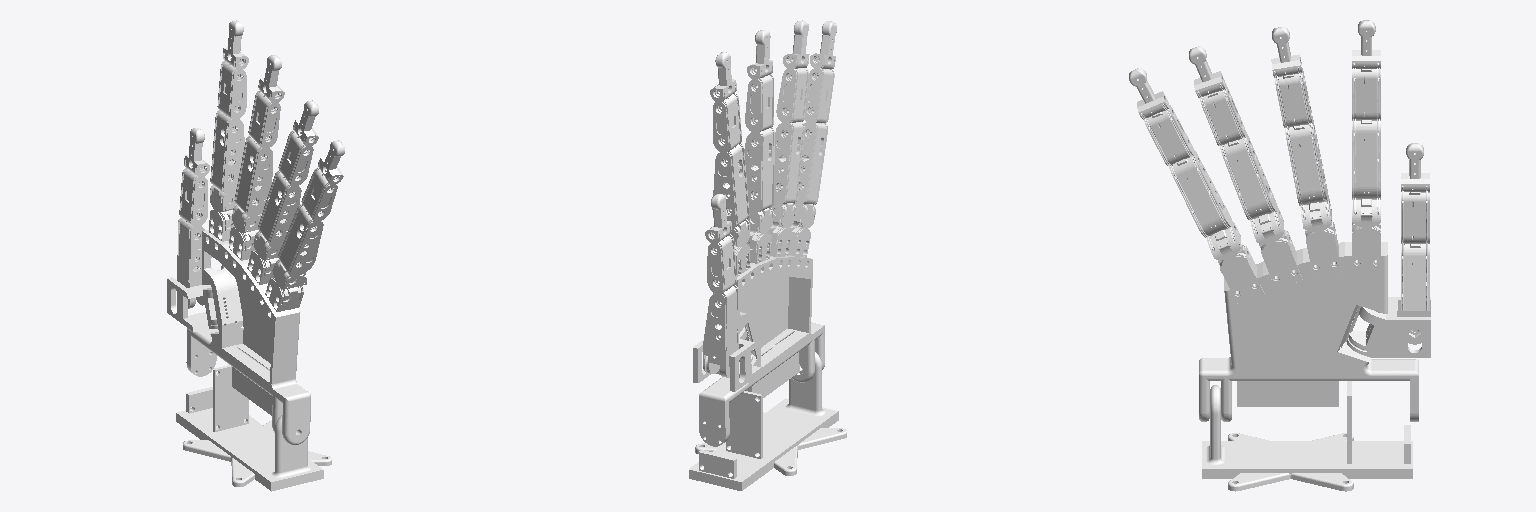
--- Facts derived from the render (not from the file) ---
The picture shows the robot from 3 angles, left to right: view 1: azimuth 30°, elevation 25°; view 2: azimuth 150°, elevation 25°; view 3: azimuth 270°, elevation 25°; orthographic projection.
Model converted_robot with 53 links and 52 joints (21 revolute, 31 fixed), rooted at world, posed all joints at 0.
Links seen in each view (by area): view 1: hand, base, f_proximal_2, f_proximal_1, f_proximal_4, f_proximal_3, thumb, f_proximal_thumb, f_medial_1, f_medial_thumb, f_medial_2, f_medial_3 (+11 smaller); view 2: hand, base, f_proximal_thumb, f_proximal_2, f_proximal_3, f_proximal_1, f_proximal_4, thumb, f_medial_3, f_medial_2, f_medial_thumb, f_medial_1 (+9 smaller); view 3: hand, base, thumb, f_proximal_4, f_proximal_3, f_proximal_2, f_proximal_thumb, f_proximal_1, f_medial_4, f_medial_3, f_medial_2, finger_4 (+14 smaller).
Boxes of the visible links, box(x1,y1,x2,y2) form: hand: box(186, 230, 310, 444); base: box(176, 365, 331, 491); f_proximal_2: box(234, 135, 272, 216); f_proximal_1: box(210, 110, 244, 193); f_proximal_4: box(278, 204, 323, 276); f_proximal_3: box(258, 170, 301, 246); thumb: box(167, 277, 217, 331); f_proximal_thumb: box(177, 217, 210, 308); f_medial_1: box(217, 60, 246, 119); f_medial_thumb: box(179, 168, 207, 226); f_medial_2: box(248, 90, 280, 148); f_medial_3: box(278, 130, 313, 186); hand: box(699, 255, 824, 446); base: box(689, 352, 846, 490); f_proximal_thumb: box(703, 285, 738, 377); f_proximal_2: box(744, 127, 774, 212); f_proximal_3: box(774, 122, 804, 204); f_proximal_1: box(712, 143, 749, 228); f_proximal_4: box(795, 121, 827, 204); thumb: box(693, 327, 762, 391); f_medial_3: box(776, 68, 808, 122); f_medial_2: box(745, 74, 773, 132); f_medial_thumb: box(707, 234, 736, 294); f_medial_1: box(713, 93, 741, 152); hand: box(1199, 242, 1418, 421); base: box(1202, 381, 1412, 491); thumb: box(1347, 297, 1430, 357); f_proximal_4: box(1169, 150, 1232, 237); f_proximal_3: box(1220, 132, 1276, 219); f_proximal_2: box(1285, 120, 1328, 205); f_proximal_thumb: box(1401, 243, 1429, 344); f_proximal_1: box(1352, 119, 1380, 199); f_medial_4: box(1144, 105, 1194, 165); f_medial_3: box(1199, 85, 1246, 145); f_medial_2: box(1274, 71, 1312, 127); finger_4: box(1218, 244, 1263, 303).
Size in the robot's own frame: 0.0565 by 0.1354 by 0.2232 metres.
Meshes: 26 distinct files referenced, 26 mesh visuals loaded (26 binary STL).

The robot description file, URDF, robot "converted_robot":
<?xml version="1.0" ?>
<robot name="converted_robot">
   <link name="world">
      <inertial>
         <origin xyz="0.0 0.0 0.0" rpy="0.0 0.0 0.0"/>
         <mass value="0.0"/>
         <inertia ixx="0.0" iyy="0.0" izz="0.0" ixy="0" ixz="0" iyz="0"/>
      </inertial>
   </link>
   <link name="base">
      <inertial>
         <origin xyz="-4.8799707564326224e-09 0.005582185568398456 0.010226744006253653" rpy="1.5349507138249 0.0 0.0"/>
         <mass value="0.05900793869016234"/>
         <inertia ixx="4.388975198952572e-05" iyy="4.3634628030527895e-05" izz="8.300150544028685e-06" ixy="0" ixz="0" iyz="0"/>
      </inertial>
      <visual name="connector">
         <origin xyz="-4.8799707564326224e-09 0.005582185568398456 0.010226744006253653" rpy="1.5349507138249 0.0 0.0"/>
         <geometry>
            <mesh filename="converted_connector.stl"/>
         </geometry>
         <material name="white"/>
      </visual>
   </link>
   <link name="world2base_fixed_jointbody">
      <inertial>
         <origin xyz="0.0 0.0 0.0" rpy="0.0 0.0 0.0"/>
         <mass value="0.001"/>
         <inertia ixx="1e-09" iyy="1e-09" izz="1e-09" ixy="0" ixz="0" iyz="0"/>
      </inertial>
   </link>
   <joint type="fixed" name="world2base_fixed">
      <parent link="world"/>
      <child link="world2base_fixed_jointbody"/>
      <origin xyz="0.0 0.0 0.0" rpy="0.0 0.0 0.0"/>
   </joint>
   <joint type="fixed" name="world2base_fixed_offset">
      <parent link="world2base_fixed_jointbody"/>
      <child link="base"/>
      <origin xyz="-0.0 -0.0 -0.0" rpy="0.0 0.0 0.0"/>
   </joint>
   <link name="hand">
      <inertial>
         <origin xyz="0.000562061327561651 0.00577931980475707 0.0636736226729795" rpy="2.019846101849213 0.0028366571213855885 -0.0012574293312483942"/>
         <mass value="0.12364236097799929"/>
         <inertia ixx="0.00012885090869033678" iyy="8.11084683924915e-05" izz="5.074465474696565e-05" ixy="0" ixz="0" iyz="0"/>
      </inertial>
      <visual name="palm">
         <origin xyz="0.000562061327561651 0.00577931980475707 0.0636736226729795" rpy="2.019846101849213 0.0028366571213855885 -0.0012574293312483942"/>
         <geometry>
            <mesh filename="converted_palm.stl"/>
         </geometry>
         <material name="white"/>
      </visual>
   </link>
   <link name="revolute_base_hand_jointbody">
      <inertial>
         <origin xyz="0.0 0.0 0.0" rpy="0.0 0.0 0.0"/>
         <mass value="0.001"/>
         <inertia ixx="1e-09" iyy="1e-09" izz="1e-09" ixy="0" ixz="0" iyz="0"/>
      </inertial>
   </link>
   <joint type="revolute" name="revolute_base_hand">
      <parent link="base"/>
      <child link="revolute_base_hand_jointbody"/>
      <origin xyz="0.0 0.0 0.0295" rpy="0.0 0.0 0.0"/>
      <axis xyz="0.0 1.0 0.0"/>
      <limit lower="-1.5707" upper="1.5707" effort="100" velocity="100"/>
   </joint>
   <joint type="fixed" name="revolute_base_hand_offset">
      <parent link="revolute_base_hand_jointbody"/>
      <child link="hand"/>
      <origin xyz="-0.0 -0.0 -0.0295" rpy="0.0 0.0 0.0"/>
   </joint>
   <link name="thumb">
      <inertial>
         <origin xyz="-0.0024321580902199147 0.04547055201202439 0.06594428052585251" rpy="-1.818372072007934 -1.3851142024770866 -2.432251693514906"/>
         <mass value="0.011932463361551614"/>
         <inertia ixx="1.3316220598414493e-06" iyy="1.1875874826751407e-06" izz="8.101648035813821e-07" ixy="0" ixz="0" iyz="0"/>
      </inertial>
      <visual name="thumbHinge">
         <origin xyz="-0.0024321580902199147 0.04547055201202439 0.06594428052585251" rpy="-1.818372072007933 -1.3851142024770866 -2.4322516935149068"/>
         <geometry>
            <mesh filename="converted_thumbHinge.stl"/>
         </geometry>
         <material name="white"/>
      </visual>
   </link>
   <link name="revolute_thumb_jointbody">
      <inertial>
         <origin xyz="0.0 0.0 0.0" rpy="0.0 0.0 0.0"/>
         <mass value="0.001"/>
         <inertia ixx="1e-09" iyy="1e-09" izz="1e-09" ixy="0" ixz="0" iyz="0"/>
      </inertial>
   </link>
   <joint type="revolute" name="revolute_thumb">
      <parent link="hand"/>
      <child link="revolute_thumb_jointbody"/>
      <origin xyz="0.0 0.03375066 0.0623" rpy="0.0 0.0 0.0"/>
      <axis xyz="0.0 0.34222508701641263 0.9396180020713785"/>
      <limit lower="-1.5707" upper="0.786" effort="100" velocity="100"/>
   </joint>
   <joint type="fixed" name="revolute_thumb_offset">
      <parent link="revolute_thumb_jointbody"/>
      <child link="thumb"/>
      <origin xyz="-0.0 -0.03375066 -0.0623" rpy="0.0 0.0 0.0"/>
   </joint>
   <link name="f_proximal_thumb">
      <inertial>
         <origin xyz="-0.004297951798048206 0.05580866566310336 0.0843086892036457" rpy="-0.0011210076065933552 -0.06049491111901317 0.00030069089551451074"/>
         <mass value="0.008513045671991154"/>
         <inertia ixx="1.306750938104563e-06" iyy="1.2910804936716028e-06" izz="1.9549737860115378e-07" ixy="0" ixz="0" iyz="0"/>
      </inertial>
      <visual name="f_proximal_thumb">
         <origin xyz="-0.004297951798048206 0.05580866566310336 0.0843086892036457" rpy="-0.0011210076065933552 -0.060494911119013395 0.0003006908955145107"/>
         <geometry>
            <mesh filename="converted_f_proximal_thumb.stl"/>
         </geometry>
         <material name="white"/>
      </visual>
   </link>
   <link name="revolute_proximal_thumb_jointbody">
      <inertial>
         <origin xyz="0.0 0.0 0.0" rpy="0.0 0.0 0.0"/>
         <mass value="0.001"/>
         <inertia ixx="1e-09" iyy="1e-09" izz="1e-09" ixy="0" ixz="0" iyz="0"/>
      </inertial>
   </link>
   <joint type="revolute" name="revolute_proximal_thumb">
      <parent link="thumb"/>
      <child link="revolute_proximal_thumb_jointbody"/>
      <origin xyz="0.0 0.05580889 0.0673319" rpy="0.0 0.0 0.0"/>
      <axis xyz="1.0 0.0 0.0"/>
      <limit lower="-3.141592" upper="0.0" effort="100" velocity="100"/>
   </joint>
   <joint type="fixed" name="revolute_proximal_thumb_offset">
      <parent link="revolute_proximal_thumb_jointbody"/>
      <child link="f_proximal_thumb"/>
      <origin xyz="-0.0 -0.05580889 -0.0673319" rpy="0.0 0.0 0.0"/>
   </joint>
   <link name="f_medial_thumb">
      <inertial>
         <origin xyz="-0.004174282327362963 0.05580154098117887 0.12063842172314324" rpy="0.00349794092532671 0.05280161793271221 0.0015134589420470353"/>
         <mass value="0.00362575779796271"/>
         <inertia ixx="2.3818492454688547e-07" iyy="2.0716156344351367e-07" izz="6.832850505523552e-08" ixy="0" ixz="0" iyz="0"/>
      </inertial>
      <visual name="f_medial_thumb">
         <origin xyz="-0.004174282327362963 0.05580154098117887 0.12063842172314324" rpy="0.00349794092532671 0.05280161793271221 0.0015134589420470353"/>
         <geometry>
            <mesh filename="converted_f_medial_thumb.stl"/>
         </geometry>
         <material name="white"/>
      </visual>
   </link>
   <link name="revolute_medial_thumb_jointbody">
      <inertial>
         <origin xyz="0.0 0.0 0.0" rpy="0.0 0.0 0.0"/>
         <mass value="0.001"/>
         <inertia ixx="1e-09" iyy="1e-09" izz="1e-09" ixy="0" ixz="0" iyz="0"/>
      </inertial>
   </link>
   <joint type="revolute" name="revolute_medial_thumb">
      <parent link="f_proximal_thumb"/>
      <child link="revolute_medial_thumb_jointbody"/>
      <origin xyz="-0.00682572 0.06231091 0.10204161" rpy="0.0 0.0 0.0"/>
      <axis xyz="0.0 1.0 0.0"/>
      <limit lower="0.0" upper="1.5707" effort="100" velocity="100"/>
   </joint>
   <joint type="fixed" name="revolute_medial_thumb_offset">
      <parent link="revolute_medial_thumb_jointbody"/>
      <child link="f_medial_thumb"/>
      <origin xyz="0.00682572 -0.06231091 -0.10204161" rpy="0.0 0.0 0.0"/>
   </joint>
   <link name="f_distal_thumb">
      <inertial>
         <origin xyz="-0.002743183463667816 0.05578990650003305 0.1426735470904285" rpy="-0.0005608075343264459 0.010813348257990185 -0.00457552909443207"/>
         <mass value="0.0014065187417840303"/>
         <inertia ixx="7.157650622938779e-08" iyy="6.265685629206977e-08" izz="1.689165819994808e-08" ixy="0" ixz="0" iyz="0"/>
      </inertial>
      <visual name="f_distal_thumb">
         <origin xyz="-0.002743183463667816 0.05578990650003305 0.1426735470904285" rpy="-0.0005608075343264459 0.010813348257990407 -0.00457552909443207"/>
         <geometry>
            <mesh filename="converted_f_distal_thumb.stl"/>
         </geometry>
         <material name="white"/>
      </visual>
   </link>
   <link name="revolute_distal_thumb_jointbody">
      <inertial>
         <origin xyz="0.0 0.0 0.0" rpy="0.0 0.0 0.0"/>
         <mass value="0.001"/>
         <inertia ixx="1e-09" iyy="1e-09" izz="1e-09" ixy="0" ixz="0" iyz="0"/>
      </inertial>
   </link>
   <joint type="revolute" name="revolute_distal_thumb">
      <parent link="f_medial_thumb"/>
      <child link="revolute_distal_thumb_jointbody"/>
      <origin xyz="-0.00444824 0.06230108 0.13012679" rpy="0.0 0.0 0.0"/>
      <axis xyz="0.0 1.0 0.0"/>
      <limit lower="0.0" upper="1.5707" effort="100" velocity="100"/>
   </joint>
   <joint type="fixed" name="revolute_distal_thumb_offset">
      <parent link="revolute_distal_thumb_jointbody"/>
      <child link="f_distal_thumb"/>
      <origin xyz="0.00444824 -0.06230108 -0.13012679" rpy="0.0 0.0 0.0"/>
   </joint>
   <link name="finger_1">
      <inertial>
         <origin xyz="0.0029687680810755604 0.03410714525654222 0.11178942929059522" rpy="0.00170760427217985 -0.270159979472987 -0.007818085328238942"/>
         <mass value="0.003620692851362423"/>
         <inertia ixx="1.6607591132839185e-07" iyy="1.5839640989381737e-07" izz="8.57536993653747e-08" ixy="0" ixz="0" iyz="0"/>
      </inertial>
      <visual name="f_base_1">
         <origin xyz="0.0029687680810755604 0.03410714525654222 0.11178942929059522" rpy="0.00170760427217985 -0.270159979472987 -0.007818085328238942"/>
         <geometry>
            <mesh filename="converted_f_base_1.stl"/>
         </geometry>
         <material name="white"/>
      </visual>
   </link>
   <link name="hand2finger_1_fixed_jointbody">
      <inertial>
         <origin xyz="0.0 0.0 0.0" rpy="0.0 0.0 0.0"/>
         <mass value="0.001"/>
         <inertia ixx="1e-09" iyy="1e-09" izz="1e-09" ixy="0" ixz="0" iyz="0"/>
      </inertial>
   </link>
   <joint type="fixed" name="hand2finger_1_fixed">
      <parent link="hand"/>
      <child link="hand2finger_1_fixed_jointbody"/>
      <origin xyz="0.0 0.0 0.0" rpy="0.0 0.0 0.0"/>
   </joint>
   <joint type="fixed" name="hand2finger_1_fixed_offset">
      <parent link="hand2finger_1_fixed_jointbody"/>
      <child link="finger_1"/>
      <origin xyz="-0.0 -0.0 -0.0" rpy="0.0 0.0 0.0"/>
   </joint>
   <link name="f_joint_1">
      <inertial>
         <origin xyz="0.00208586770390702 0.034102497590881665 0.12737633203207016" rpy="3.1337612662740977 -1.1666236191142398 0.007404724188730283"/>
         <mass value="0.00205077724159981"/>
         <inertia ixx="5.3021042242846075e-08" iyy="4.456769422477217e-08" izz="4.1862233507098256e-08" ixy="0" ixz="0" iyz="0"/>
      </inertial>
      <visual name="f_joint_1">
         <origin xyz="0.00208586770390702 0.034102497590881665 0.12737633203207016" rpy="3.1337612662740977 -1.1666236191142398 0.007404724188730283"/>
         <geometry>
            <mesh filename="converted_f_joint_1.stl"/>
         </geometry>
         <material name="white"/>
      </visual>
   </link>
   <link name="revolute_joint_1_jointbody">
      <inertial>
         <origin xyz="0.0 0.0 0.0" rpy="0.0 0.0 0.0"/>
         <mass value="0.001"/>
         <inertia ixx="1e-09" iyy="1e-09" izz="1e-09" ixy="0" ixz="0" iyz="0"/>
      </inertial>
   </link>
   <joint type="revolute" name="revolute_joint_1">
      <parent link="finger_1"/>
      <child link="revolute_joint_1_jointbody"/>
      <origin xyz="0.00885185 0.03410852 0.11250719" rpy="0.0 0.0 0.0"/>
      <axis xyz="1.0 0.0 0.0"/>
      <limit lower="-0.393" upper="0.393" effort="100" velocity="100"/>
   </joint>
   <joint type="fixed" name="revolute_joint_1_offset">
      <parent link="revolute_joint_1_jointbody"/>
      <child link="f_joint_1"/>
      <origin xyz="-0.00885185 -0.03410852 -0.11250719" rpy="0.0 0.0 0.0"/>
   </joint>
   <link name="f_proximal_1">
      <inertial>
         <origin xyz="0.0031190579550748757 0.03408189919150284 0.15230004011161824" rpy="0.0020249258799340322 0.0320982378591812 -0.012550217898010786"/>
         <mass value="0.007546045792178881"/>
         <inertia ixx="9.563533404431607e-07" iyy="9.274115947109677e-07" izz="1.7176053838506628e-07" ixy="0" ixz="0" iyz="0"/>
      </inertial>
      <visual name="f_proximal_1">
         <origin xyz="0.0031190579550748757 0.03408189919150284 0.15230004011161824" rpy="0.0020249258799340322 0.0320982378591812 -0.012550217898010786"/>
         <geometry>
            <mesh filename="converted_f_proximal_1.stl"/>
         </geometry>
         <material name="white"/>
      </visual>
   </link>
   <link name="revolute_proximal_1_jointbody">
      <inertial>
         <origin xyz="0.0 0.0 0.0" rpy="0.0 0.0 0.0"/>
         <mass value="0.001"/>
         <inertia ixx="1e-09" iyy="1e-09" izz="1e-09" ixy="0" ixz="0" iyz="0"/>
      </inertial>
   </link>
   <joint type="revolute" name="revolute_proximal_1">
      <parent link="f_joint_1"/>
      <child link="revolute_proximal_1_jointbody"/>
      <origin xyz="1e-05 0.03961 0.12431" rpy="0.0 0.0 0.0"/>
      <axis xyz="0.0 1.0 0.0"/>
      <limit lower="0.0" upper="1.5707" effort="100" velocity="100"/>
   </joint>
   <joint type="fixed" name="revolute_proximal_1_offset">
      <parent link="revolute_proximal_1_jointbody"/>
      <child link="f_proximal_1"/>
      <origin xyz="-1e-05 -0.03961 -0.12431" rpy="0.0 0.0 0.0"/>
   </joint>
   <link name="f_medial_1">
      <inertial>
         <origin xyz="0.005387258235178706 0.03409935854176851 0.18615389567478657" rpy="-0.0006624714835370715 0.061877435271356473 0.0030478826210008055"/>
         <mass value="0.003609616075415664"/>
         <inertia ixx="2.3670853829117485e-07" iyy="2.0588772578344367e-07" izz="6.815248479532083e-08" ixy="0" ixz="0" iyz="0"/>
      </inertial>
      <visual name="f_medial_1">
         <origin xyz="0.005387258235178706 0.03409935854176851 0.18615389567478657" rpy="-0.0006624714835370719 0.061877435271356473 0.003047882621000806"/>
         <geometry>
            <mesh filename="converted_f_medial_1.stl"/>
         </geometry>
         <material name="white"/>
      </visual>
   </link>
   <link name="revolute_medial_1_jointbody">
      <inertial>
         <origin xyz="0.0 0.0 0.0" rpy="0.0 0.0 0.0"/>
         <mass value="0.001"/>
         <inertia ixx="1e-09" iyy="1e-09" izz="1e-09" ixy="0" ixz="0" iyz="0"/>
      </inertial>
   </link>
   <joint type="revolute" name="revolute_medial_1">
      <parent link="f_proximal_1"/>
      <child link="revolute_medial_1_jointbody"/>
      <origin xyz="0.00213 0.04061 0.16771" rpy="0.0 0.0 0.0"/>
      <axis xyz="0.0 1.0 0.0"/>
      <limit lower="0.0" upper="1.5707" effort="100" velocity="100"/>
   </joint>
   <joint type="fixed" name="revolute_medial_1_offset">
      <parent link="revolute_medial_1_jointbody"/>
      <child link="f_medial_1"/>
      <origin xyz="-0.00213 -0.04061 -0.16771" rpy="0.0 0.0 0.0"/>
   </joint>
   <link name="f_distal_1">
      <inertial>
         <origin xyz="0.0070655200574758405 0.034104964607814627 0.20811444458329728" rpy="-0.0004941105941255493 0.021028496265301122 0.0003120875215016336"/>
         <mass value="0.0014065191101151845"/>
         <inertia ixx="7.157651836700943e-08" iyy="6.26568649782473e-08" izz="1.6891665830819875e-08" ixy="0" ixz="0" iyz="0"/>
      </inertial>
      <visual name="f_distal_1">
         <origin xyz="0.0070655200574758405 0.034104964607814627 0.20811444458329728" rpy="-0.0004941105941255492 0.021028496265301344 0.0003120875215016335"/>
         <geometry>
            <mesh filename="converted_f_distal_1.stl"/>
         </geometry>
         <material name="white"/>
      </visual>
   </link>
   <link name="revolute_distal_1_jointbody">
      <inertial>
         <origin xyz="0.0 0.0 0.0" rpy="0.0 0.0 0.0"/>
         <mass value="0.001"/>
         <inertia ixx="1e-09" iyy="1e-09" izz="1e-09" ixy="0" ixz="0" iyz="0"/>
      </inertial>
   </link>
   <joint type="revolute" name="revolute_distal_1">
      <parent link="f_medial_1"/>
      <child link="revolute_distal_1_jointbody"/>
      <origin xyz="0.0052 0.04011 0.19559" rpy="0.0 0.0 0.0"/>
      <axis xyz="0.0 1.0 0.0"/>
      <limit lower="0.0" upper="1.5707" effort="100" velocity="100"/>
   </joint>
   <joint type="fixed" name="revolute_distal_1_offset">
      <parent link="revolute_distal_1_jointbody"/>
      <child link="f_distal_1"/>
      <origin xyz="-0.0052 -0.04011 -0.19559" rpy="0.0 0.0 0.0"/>
   </joint>
   <link name="finger_2">
      <inertial>
         <origin xyz="0.0029447268671506668 0.01429271298222884 0.110055817015949" rpy="0.18256705438298965 -0.2643925590830212 -0.058132657398470775"/>
         <mass value="0.0036206924209375257"/>
         <inertia ixx="1.6607588120603963e-07" iyy="1.5839638102660363e-07" izz="8.575369277113502e-08" ixy="0" ixz="0" iyz="0"/>
      </inertial>
      <visual name="f_base_2">
         <origin xyz="0.0029447268671506668 0.01429271298222884 0.110055817015949" rpy="0.18256705438298965 -0.2643925590830212 -0.058132657398470775"/>
         <geometry>
            <mesh filename="converted_f_base_2.stl"/>
         </geometry>
         <material name="white"/>
      </visual>
   </link>
   <link name="hand2finger_2_fixed_jointbody">
      <inertial>
         <origin xyz="0.0 0.0 0.0" rpy="0.0 0.0 0.0"/>
         <mass value="0.001"/>
         <inertia ixx="1e-09" iyy="1e-09" izz="1e-09" ixy="0" ixz="0" iyz="0"/>
      </inertial>
   </link>
   <joint type="fixed" name="hand2finger_2_fixed">
      <parent link="hand"/>
      <child link="hand2finger_2_fixed_jointbody"/>
      <origin xyz="0.0 0.0 0.0" rpy="0.0 0.0 0.0"/>
   </joint>
   <joint type="fixed" name="hand2finger_2_fixed_offset">
      <parent link="hand2finger_2_fixed_jointbody"/>
      <child link="finger_2"/>
      <origin xyz="-0.0 -0.0 -0.0" rpy="0.0 0.0 0.0"/>
   </joint>
   <link name="f_joint_2">
      <inertial>
         <origin xyz="0.002058534532073282 0.01158388538188816 0.1254053440175476" rpy="-2.7270098695477527 -1.133464752154149 -0.38159593283953774"/>
         <mass value="0.002050777715342269"/>
         <inertia ixx="5.3021055932695205e-08" iyy="4.456771025300793e-08" izz="4.186224802262042e-08" ixy="0" ixz="0" iyz="0"/>
      </inertial>
      <visual name="f_joint_2">
         <origin xyz="0.002058534532073282 0.01158388538188816 0.1254053440175476" rpy="-2.7270098695477527 -1.1334647521541488 -0.38159593283953774"/>
         <geometry>
            <mesh filename="converted_f_joint_2.stl"/>
         </geometry>
         <material name="white"/>
      </visual>
   </link>
   <link name="revolute_joint_2_jointbody">
      <inertial>
         <origin xyz="0.0 0.0 0.0" rpy="0.0 0.0 0.0"/>
         <mass value="0.001"/>
         <inertia ixx="1e-09" iyy="1e-09" izz="1e-09" ixy="0" ixz="0" iyz="0"/>
      </inertial>
   </link>
   <joint type="revolute" name="revolute_joint_2">
      <parent link="finger_2"/>
      <child link="revolute_joint_2_jointbody"/>
      <origin xyz="0.00883 0.01416 0.11076" rpy="0.0 0.0 0.0"/>
      <axis xyz="1.0 0.0 0.0"/>
      <limit lower="-0.393" upper="0.393" effort="100" velocity="100"/>
   </joint>
   <joint type="fixed" name="revolute_joint_2_offset">
      <parent link="revolute_joint_2_jointbody"/>
      <child link="f_joint_2"/>
      <origin xyz="-0.00883 -0.01416 -0.11076" rpy="0.0 0.0 0.0"/>
   </joint>
   <link name="f_proximal_2">
      <inertial>
         <origin xyz="0.003060846205633814 0.00723352366783981 0.1499473097214772" rpy="0.17663569727982528 0.032634425458659466 -0.009433166148778316"/>
         <mass value="0.0075460471240385634"/>
         <inertia ixx="9.563536008978057e-07" iyy="9.274118602498793e-07" izz="1.7176056719609934e-07" ixy="0" ixz="0" iyz="0"/>
      </inertial>
      <visual name="f_proximal_2">
         <origin xyz="0.003060846205633814 0.00723352366783981 0.1499473097214772" rpy="0.1766356972798253 0.032634425458659244 -0.00943316614877833"/>
         <geometry>
            <mesh filename="converted_f_proximal_2.stl"/>
         </geometry>
         <material name="white"/>
      </visual>
   </link>
   <link name="revolute_proximal_2_jointbody">
      <inertial>
         <origin xyz="0.0 0.0 0.0" rpy="0.0 0.0 0.0"/>
         <mass value="0.001"/>
         <inertia ixx="1e-09" iyy="1e-09" izz="1e-09" ixy="0" ixz="0" iyz="0"/>
      </inertial>
   </link>
   <joint type="revolute" name="revolute_proximal_2">
      <parent link="f_joint_2"/>
      <child link="revolute_proximal_2_jointbody"/>
      <origin xyz="0.0 0.01853 0.12351" rpy="0.0 0.0 0.0"/>
      <axis xyz="0.0 0.9848072075841259 0.17365127091488977"/>
      <limit lower="0.0" upper="1.5707" effort="100" velocity="100"/>
   </joint>
   <joint type="fixed" name="revolute_proximal_2_offset">
      <parent link="revolute_proximal_2_jointbody"/>
      <child link="f_proximal_2"/>
      <origin xyz="-0.0 -0.01853 -0.12351" rpy="0.0 0.0 0.0"/>
   </joint>
   <link name="f_medial_2">
      <inertial>
         <origin xyz="0.005275023429847027 0.0013667341685768403 0.18329257485070996" rpy="0.17415907615769513 0.059252471848857624 0.011108839104358448"/>
         <mass value="0.0036096160859730524"/>
         <inertia ixx="2.3670856228715804e-07" iyy="2.0588775129681034e-07" izz="6.815248571337438e-08" ixy="0" ixz="0" iyz="0"/>
      </inertial>
      <visual name="f_medial_2">
         <origin xyz="0.005275023429847027 0.0013667341685768403 0.18329257485070996" rpy="0.17415907615769513 0.059252471848857624 0.011108839104358448"/>
         <geometry>
            <mesh filename="converted_f_medial_2.stl"/>
         </geometry>
         <material name="white"/>
      </visual>
   </link>
   <link name="revolute_medial_2_jointbody">
      <inertial>
         <origin xyz="0.0 0.0 0.0" rpy="0.0 0.0 0.0"/>
         <mass value="0.001"/>
         <inertia ixx="1e-09" iyy="1e-09" izz="1e-09" ixy="0" ixz="0" iyz="0"/>
      </inertial>
   </link>
   <joint type="revolute" name="revolute_medial_2">
      <parent link="f_proximal_2"/>
      <child link="revolute_medial_2_jointbody"/>
      <origin xyz="0.00206 0.01099 0.16626" rpy="0.0 0.0 0.0"/>
      <axis xyz="0.0 0.9848072075841259 0.17365127091488977"/>
      <limit lower="0.0" upper="1.5707" effort="100" velocity="100"/>
   </joint>
   <joint type="fixed" name="revolute_medial_2_offset">
      <parent link="revolute_medial_2_jointbody"/>
      <child link="f_medial_2"/>
      <origin xyz="-0.00206 -0.01099 -0.16626" rpy="0.0 0.0 0.0"/>
   </joint>
   <link name="f_distal_2">
      <inertial>
         <origin xyz="0.006918227841553544 -0.002445157463405754 0.20492245535229708" rpy="0.17406280323115986 0.019500450031886052 0.0013103579631986162"/>
         <mass value="0.0014065191067448842"/>
         <inertia ixx="7.157650906226636e-08" iyy="6.265685614708838e-08" izz="1.6891665616681946e-08" ixy="0" ixz="0" iyz="0"/>
      </inertial>
      <visual name="f_distal_2">
         <origin xyz="0.006918227841553544 -0.002445157463405754 0.20492245535229708" rpy="0.17406280323115986 0.019500450031886274 0.00131035796319863"/>
         <geometry>
            <mesh filename="converted_f_distal_2.stl"/>
         </geometry>
         <material name="white"/>
      </visual>
   </link>
   <link name="revolute_distal_2_jointbody">
      <inertial>
         <origin xyz="0.0 0.0 0.0" rpy="0.0 0.0 0.0"/>
         <mass value="0.001"/>
         <inertia ixx="1e-09" iyy="1e-09" izz="1e-09" ixy="0" ixz="0" iyz="0"/>
      </inertial>
   </link>
   <joint type="revolute" name="revolute_distal_2">
      <parent link="f_medial_2"/>
      <child link="revolute_distal_2_jointbody"/>
      <origin xyz="0.00508 0.00442 0.19341" rpy="0.0 0.0 0.0"/>
      <axis xyz="0.0 0.9848072075841259 0.17365127091488977"/>
      <limit lower="0.0" upper="1.5707" effort="100" velocity="100"/>
   </joint>
   <joint type="fixed" name="revolute_distal_2_offset">
      <parent link="revolute_distal_2_jointbody"/>
      <child link="f_distal_2"/>
      <origin xyz="-0.00508 -0.00442 -0.19341" rpy="0.0 0.0 0.0"/>
   </joint>
   <link name="finger_3">
      <inertial>
         <origin xyz="0.00287334073885369 -0.004919625746767773 0.1049081327711756" rpy="0.36242286733050033 -0.25001376322336943 -0.1064275412221466"/>
         <mass value="0.0036206926896220986"/>
         <inertia ixx="1.6607589499972824e-07" iyy="1.5839639043472208e-07" izz="8.575369800401134e-08" ixy="0" ixz="0" iyz="0"/>
      </inertial>
      <visual name="f_base_3">
         <origin xyz="0.00287334073885369 -0.004919625746767773 0.1049081327711756" rpy="0.36242286733050033 -0.25001376322336943 -0.1064275412221466"/>
         <geometry>
            <mesh filename="converted_f_base_3.stl"/>
         </geometry>
         <material name="white"/>
      </visual>
   </link>
   <link name="hand2finger_3_fixed_jointbody">
      <inertial>
         <origin xyz="0.0 0.0 0.0" rpy="0.0 0.0 0.0"/>
         <mass value="0.001"/>
         <inertia ixx="1e-09" iyy="1e-09" izz="1e-09" ixy="0" ixz="0" iyz="0"/>
      </inertial>
   </link>
   <joint type="fixed" name="hand2finger_3_fixed">
      <parent link="hand"/>
      <child link="hand2finger_3_fixed_jointbody"/>
      <origin xyz="0.0 0.0 0.0" rpy="0.0 0.0 0.0"/>
   </joint>
   <joint type="fixed" name="hand2finger_3_fixed_offset">
      <parent link="hand2finger_3_fixed_jointbody"/>
      <child link="finger_3"/>
      <origin xyz="-0.0 -0.0 -0.0" rpy="0.0 0.0 0.0"/>
   </joint>
   <link name="f_joint_3">
      <inertial>
         <origin xyz="0.0019773956754786126 -0.010250327929200114 0.11955435893351203" rpy="-2.4005744947693994 -1.044467505714008 -0.6740736106319707"/>
         <mass value="0.002050777844707917"/>
         <inertia ixx="5.302105945368402e-08" iyy="4.456771016350984e-08" izz="4.1862248821523e-08" ixy="0" ixz="0" iyz="0"/>
      </inertial>
      <visual name="f_joint_3">
         <origin xyz="0.0019773956754786126 -0.010250327929200114 0.11955435893351203" rpy="-2.4005744947693994 -1.0444675057140078 -0.6740736106319707"/>
         <geometry>
            <mesh filename="converted_f_joint_3.stl"/>
         </geometry>
         <material name="white"/>
      </visual>
   </link>
   <link name="revolute_joint_3_jointbody">
      <inertial>
         <origin xyz="0.0 0.0 0.0" rpy="0.0 0.0 0.0"/>
         <mass value="0.001"/>
         <inertia ixx="1e-09" iyy="1e-09" izz="1e-09" ixy="0" ixz="0" iyz="0"/>
      </inertial>
   </link>
   <joint type="revolute" name="revolute_joint_3">
      <parent link="finger_3"/>
      <child link="revolute_joint_3_jointbody"/>
      <origin xyz="0.00876 -0.00519 0.10558" rpy="0.0 0.0 0.0"/>
      <axis xyz="1.0 0.0 0.0"/>
      <limit lower="-0.393" upper="0.393" effort="100" velocity="100"/>
   </joint>
   <joint type="fixed" name="revolute_joint_3_offset">
      <parent link="revolute_joint_3_jointbody"/>
      <child link="f_joint_3"/>
      <origin xyz="-0.00876 0.00519 -0.10558" rpy="0.0 0.0 0.0"/>
   </joint>
   <link name="f_proximal_3">
      <inertial>
         <origin xyz="0.0029445036928082485 -0.018798332956460488 0.1429684252315403" rpy="0.3512448157096612 0.03299132257671955 -0.006391947358808825"/>
         <mass value="0.007546046244962271"/>
         <inertia ixx="9.563534622084716e-07" iyy="9.274117157184805e-07" izz="1.7176054040797138e-07" ixy="0" ixz="0" iyz="0"/>
      </inertial>
      <visual name="f_proximal_3">
         <origin xyz="0.0029445036928082485 -0.018798332956460488 0.1429684252315403" rpy="0.35124481570966115 0.03299132257671933 -0.006391947358808853"/>
         <geometry>
            <mesh filename="converted_f_proximal_3.stl"/>
         </geometry>
         <material name="white"/>
      </visual>
   </link>
   <link name="revolute_proximal_3_jointbody">
      <inertial>
         <origin xyz="0.0 0.0 0.0" rpy="0.0 0.0 0.0"/>
         <mass value="0.001"/>
         <inertia ixx="1e-09" iyy="1e-09" izz="1e-09" ixy="0" ixz="0" iyz="0"/>
      </inertial>
   </link>
   <joint type="revolute" name="revolute_proximal_3">
      <parent link="f_joint_3"/>
      <child link="revolute_proximal_3_jointbody"/>
      <origin xyz="-6e-05 -0.00308 0.1189" rpy="0.0 0.0 0.0"/>
      <axis xyz="0.0 0.9400032368184845 0.3411655240067088"/>
      <limit lower="0.0" upper="1.5707" effort="100" velocity="100"/>
   </joint>
   <joint type="fixed" name="revolute_proximal_3_offset">
      <parent link="revolute_proximal_3_jointbody"/>
      <child link="f_proximal_3"/>
      <origin xyz="6e-05 0.00308 -0.1189" rpy="0.0 0.0 0.0"/>
   </joint>
   <link name="f_medial_3">
      <inertial>
         <origin xyz="0.0051016406505764895 -0.03037173991175558 0.17479029691562517" rpy="0.3489260314491369 0.05563788761241528 0.018466716151594398"/>
         <mass value="0.0036096164065753684"/>
         <inertia ixx="2.3670858957914472e-07" iyy="2.0588777577576836e-07" izz="6.815248924201918e-08" ixy="0" ixz="0" iyz="0"/>
      </inertial>
      <visual name="f_medial_3">
         <origin xyz="0.0051016406505764895 -0.03037173991175558 0.17479029691562517" rpy="0.3489260314491369 0.05563788761241506 0.01846671615159437"/>
         <geometry>
            <mesh filename="converted_f_medial_3.stl"/>
         </geometry>
         <material name="white"/>
      </visual>
   </link>
   <link name="revolute_medial_3_jointbody">
      <inertial>
         <origin xyz="0.0 0.0 0.0" rpy="0.0 0.0 0.0"/>
         <mass value="0.001"/>
         <inertia ixx="1e-09" iyy="1e-09" izz="1e-09" ixy="0" ixz="0" iyz="0"/>
      </inertial>
   </link>
   <joint type="revolute" name="revolute_medial_3">
      <parent link="f_proximal_3"/>
      <child link="revolute_medial_3_jointbody"/>
      <origin xyz="0.00194 -0.01793 0.15968" rpy="0.0 0.0 0.0"/>
      <axis xyz="0.0 0.9400032368184845 0.3411655240067088"/>
      <limit lower="0.0" upper="1.5707" effort="100" velocity="100"/>
   </joint>
   <joint type="fixed" name="revolute_medial_3_offset">
      <parent link="revolute_medial_3_jointbody"/>
      <child link="f_medial_3"/>
      <origin xyz="-0.00194 0.01793 -0.15968" rpy="0.0 0.0 0.0"/>
   </joint>
   <link name="f_distal_3">
      <inertial>
         <origin xyz="0.006707827846415839 -0.037885786117765476 0.19543107070677315" rpy="0.34861175654735777 0.018191521844554526 0.0019064361888620207"/>
         <mass value="0.0014065189189228198"/>
         <inertia ixx="7.157651379246746e-08" iyy="6.265686226383923e-08" izz="1.6891662377127975e-08" ixy="0" ixz="0" iyz="0"/>
      </inertial>
      <visual name="f_distal_3">
         <origin xyz="0.006707827846415839 -0.037885786117765476 0.19543107070677315" rpy="0.34861175654735765 0.018191521844554526 0.0019064361888620207"/>
         <geometry>
            <mesh filename="converted_f_distal_3.stl"/>
         </geometry>
         <material name="white"/>
      </visual>
   </link>
   <link name="revolute_distal_3_jointbody">
      <inertial>
         <origin xyz="0.0 0.0 0.0" rpy="0.0 0.0 0.0"/>
         <mass value="0.001"/>
         <inertia ixx="1e-09" iyy="1e-09" izz="1e-09" ixy="0" ixz="0" iyz="0"/>
      </inertial>
   </link>
   <joint type="revolute" name="revolute_distal_3">
      <parent link="f_medial_3"/>
      <child link="revolute_distal_3_jointbody"/>
      <origin xyz="0.00491 -0.02748 0.18588" rpy="0.0 0.0 0.0"/>
      <axis xyz="0.0 0.9400032368184845 0.3411655240067088"/>
      <limit lower="0.0" upper="1.5707" effort="100" velocity="100"/>
   </joint>
   <joint type="fixed" name="revolute_distal_3_offset">
      <parent link="revolute_distal_3_jointbody"/>
      <child link="f_distal_3"/>
      <origin xyz="-0.00491 0.02748 -0.18588" rpy="0.0 0.0 0.0"/>
   </joint>
   <link name="finger_4">
      <inertial>
         <origin xyz="0.0027695714124540086 -0.02298619285180325 0.09742530459746236" rpy="0.45174172827163417 -0.2397463601142107 -0.12930722719572943"/>
         <mass value="0.0036206928907530425"/>
         <inertia ixx="1.6607590452631965e-07" iyy="1.5839640586271052e-07" izz="8.575369804142303e-08" ixy="0" ixz="0" iyz="0"/>
      </inertial>
      <visual name="f_base_4">
         <origin xyz="0.0027695714124540086 -0.02298619285180325 0.09742530459746236" rpy="0.4517417282716341 -0.2397463601142107 -0.12930722719572946"/>
         <geometry>
            <mesh filename="converted_f_base_4.stl"/>
         </geometry>
         <material name="white"/>
      </visual>
   </link>
   <link name="hand2finger_4_fixed_jointbody">
      <inertial>
         <origin xyz="0.0 0.0 0.0" rpy="0.0 0.0 0.0"/>
         <mass value="0.001"/>
         <inertia ixx="1e-09" iyy="1e-09" izz="1e-09" ixy="0" ixz="0" iyz="0"/>
      </inertial>
   </link>
   <joint type="fixed" name="hand2finger_4_fixed">
      <parent link="hand"/>
      <child link="hand2finger_4_fixed_jointbody"/>
      <origin xyz="0.0 0.0 0.0" rpy="0.0 0.0 0.0"/>
   </joint>
   <joint type="fixed" name="hand2finger_4_fixed_offset">
      <parent link="hand2finger_4_fixed_jointbody"/>
      <child link="finger_4"/>
      <origin xyz="-0.0 -0.0 -0.0" rpy="0.0 0.0 0.0"/>
   </joint>
   <link name="f_joint_4">
      <inertial>
         <origin xyz="0.0018664118301764693 -0.02957190751533808 0.11155130030407574" rpy="-2.2767849208009316 -0.9863551477875403 -0.7804404493784074"/>
         <mass value="0.002050777487611732"/>
         <inertia ixx="5.30210521443784e-08" iyy="4.456770330935976e-08" izz="4.18622399209406e-08" ixy="0" ixz="0" iyz="0"/>
      </inertial>
      <visual name="f_joint_4">
         <origin xyz="0.0018664118301764693 -0.02957190751533808 0.11155130030407574" rpy="-2.2767849208009316 -0.9863551477875403 -0.7804404493784081"/>
         <geometry>
            <mesh filename="converted_f_joint_4.stl"/>
         </geometry>
         <material name="white"/>
      </visual>
   </link>
   <link name="revolute_joint_4_jointbody">
      <inertial>
         <origin xyz="0.0 0.0 0.0" rpy="0.0 0.0 0.0"/>
         <mass value="0.001"/>
         <inertia ixx="1e-09" iyy="1e-09" izz="1e-09" ixy="0" ixz="0" iyz="0"/>
      </inertial>
   </link>
   <joint type="revolute" name="revolute_joint_4">
      <parent link="finger_4"/>
      <child link="revolute_joint_4_jointbody"/>
      <origin xyz="0.00865 -0.02332 0.09807" rpy="0.0 0.0 0.0"/>
      <axis xyz="1.0 0.0 0.0"/>
      <limit lower="-0.393" upper="0.393" effort="100" velocity="100"/>
   </joint>
   <joint type="fixed" name="revolute_joint_4_offset">
      <parent link="revolute_joint_4_jointbody"/>
      <child link="f_joint_4"/>
      <origin xyz="-0.00865 0.02332 -0.09807" rpy="0.0 0.0 0.0"/>
   </joint>
   <link name="f_proximal_4">
      <inertial>
         <origin xyz="0.002748420788454541 -0.04012924460752692 0.1341327832134435" rpy="0.43854644558191824 0.029864073010889225 -0.00638368261173719"/>
         <mass value="0.0075460461834587446"/>
         <inertia ixx="9.56353416097486e-07" iyy="9.274116691614614e-07" izz="1.717605301331336e-07" ixy="0" ixz="0" iyz="0"/>
      </inertial>
      <visual name="f_proximal_4">
         <origin xyz="0.002748420788454541 -0.04012924460752692 0.1341327832134435" rpy="0.43854644558191824 0.029864073010889225 -0.00638368261173719"/>
         <geometry>
            <mesh filename="converted_f_proximal_4.stl"/>
         </geometry>
         <material name="white"/>
      </visual>
   </link>
   <link name="revolute_proximal_4_jointbody">
      <inertial>
         <origin xyz="0.0 0.0 0.0" rpy="0.0 0.0 0.0"/>
         <mass value="0.001"/>
         <inertia ixx="1e-09" iyy="1e-09" izz="1e-09" ixy="0" ixz="0" iyz="0"/>
      </inertial>
   </link>
   <joint type="revolute" name="revolute_proximal_4">
      <parent link="f_joint_4"/>
      <child link="revolute_proximal_4_jointbody"/>
      <origin xyz="-0.00016 -0.02237 0.11152" rpy="0.0 0.0 0.0"/>
      <axis xyz="0.0 0.9067486699488351 0.42167149482271005"/>
      <limit lower="0.0" upper="1.5707" effort="100" velocity="100"/>
   </joint>
   <joint type="fixed" name="revolute_proximal_4_offset">
      <parent link="revolute_proximal_4_jointbody"/>
      <child link="f_proximal_4"/>
      <origin xyz="0.00016 0.02237 -0.11152" rpy="0.0 0.0 0.0"/>
   </joint>
   <link name="f_medial_4">
      <inertial>
         <origin xyz="0.004754949148978116 -0.05443718706149976 0.1648327051989323" rpy="0.43619723873075494 0.05025979277372339 0.02035114194529547"/>
         <mass value="0.003609616674872929"/>
         <inertia ixx="2.367085849623129e-07" iyy="2.0588776969080577e-07" izz="6.815249540002653e-08" ixy="0" ixz="0" iyz="0"/>
      </inertial>
      <visual name="f_medial_4">
         <origin xyz="0.004754949148978116 -0.05443718706149976 0.1648327051989323" rpy="0.436197238730755 0.050259792773723166 0.020351141945295442"/>
         <geometry>
            <mesh filename="converted_f_medial_4.stl"/>
         </geometry>
         <material name="white"/>
      </visual>
   </link>
   <link name="revolute_medial_4_jointbody">
      <inertial>
         <origin xyz="0.0 0.0 0.0" rpy="0.0 0.0 0.0"/>
         <mass value="0.001"/>
         <inertia ixx="1e-09" iyy="1e-09" izz="1e-09" ixy="0" ixz="0" iyz="0"/>
      </inertial>
   </link>
   <joint type="revolute" name="revolute_medial_4">
      <parent link="f_proximal_4"/>
      <child link="revolute_medial_4_jointbody"/>
      <origin xyz="0.00168 -0.04072 0.15086" rpy="0.0 0.0 0.0"/>
      <axis xyz="0.0 0.9067486699488351 0.42167149482271005"/>
      <limit lower="0.0" upper="1.5707" effort="100" velocity="100"/>
   </joint>
   <joint type="fixed" name="revolute_medial_4_offset">
      <parent link="revolute_medial_4_jointbody"/>
      <child link="f_medial_4"/>
      <origin xyz="-0.00168 0.04072 -0.15086" rpy="0.0 0.0 0.0"/>
   </joint>
   <link name="f_distal_4">
      <inertial>
         <origin xyz="0.0062634247188262755 -0.0637255184023173 0.18474585899549972" rpy="0.43585440777130924 0.014397741628137117 0.0005918102479726406"/>
         <mass value="0.0014065188486264036"/>
         <inertia ixx="7.157650465114436e-08" iyy="6.265685331616462e-08" izz="1.689166112160818e-08" ixy="0" ixz="0" iyz="0"/>
      </inertial>
      <visual name="f_distal_4">
         <origin xyz="0.0062634247188262755 -0.0637255184023173 0.18474585899549972" rpy="0.43585440777130924 0.014397741628137117 0.0005918102479726406"/>
         <geometry>
            <mesh filename="converted_f_distal_4.stl"/>
         </geometry>
         <material name="white"/>
      </visual>
   </link>
   <link name="revolute_distal_4_jointbody">
      <inertial>
         <origin xyz="0.0 0.0 0.0" rpy="0.0 0.0 0.0"/>
         <mass value="0.001"/>
         <inertia ixx="1e-09" iyy="1e-09" izz="1e-09" ixy="0" ixz="0" iyz="0"/>
      </inertial>
   </link>
   <joint type="revolute" name="revolute_distal_4">
      <parent link="f_medial_4"/>
      <child link="revolute_distal_4_jointbody"/>
      <origin xyz="0.00453 -0.05252 0.17613" rpy="0.0 0.0 0.0"/>
      <axis xyz="0.0 0.9067486699488351 0.42167149482271005"/>
      <limit lower="0.0" upper="1.5707" effort="100" velocity="100"/>
   </joint>
   <joint type="fixed" name="revolute_distal_4_offset">
      <parent link="revolute_distal_4_jointbody"/>
      <child link="f_distal_4"/>
      <origin xyz="-0.00453 0.05252 -0.17613" rpy="0.0 0.0 0.0"/>
   </joint>
   <material name="white">
      <color rgba="1 1 1 1"/>
   </material>
</robot>
